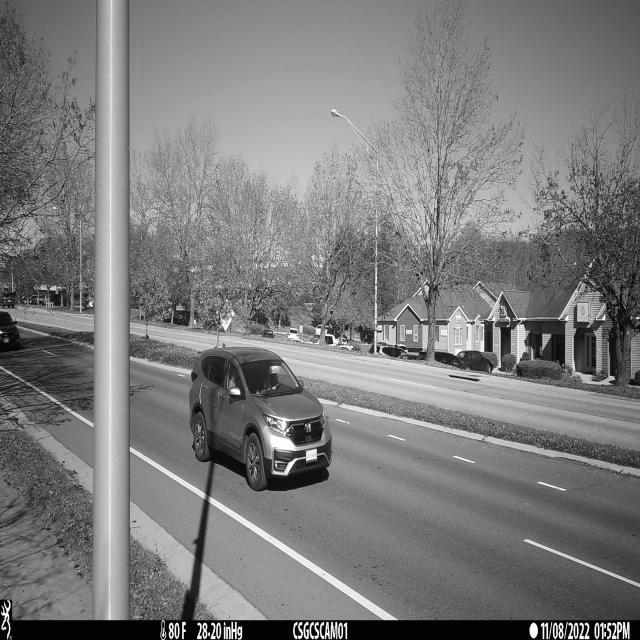SUV: (191, 344, 335, 491)
